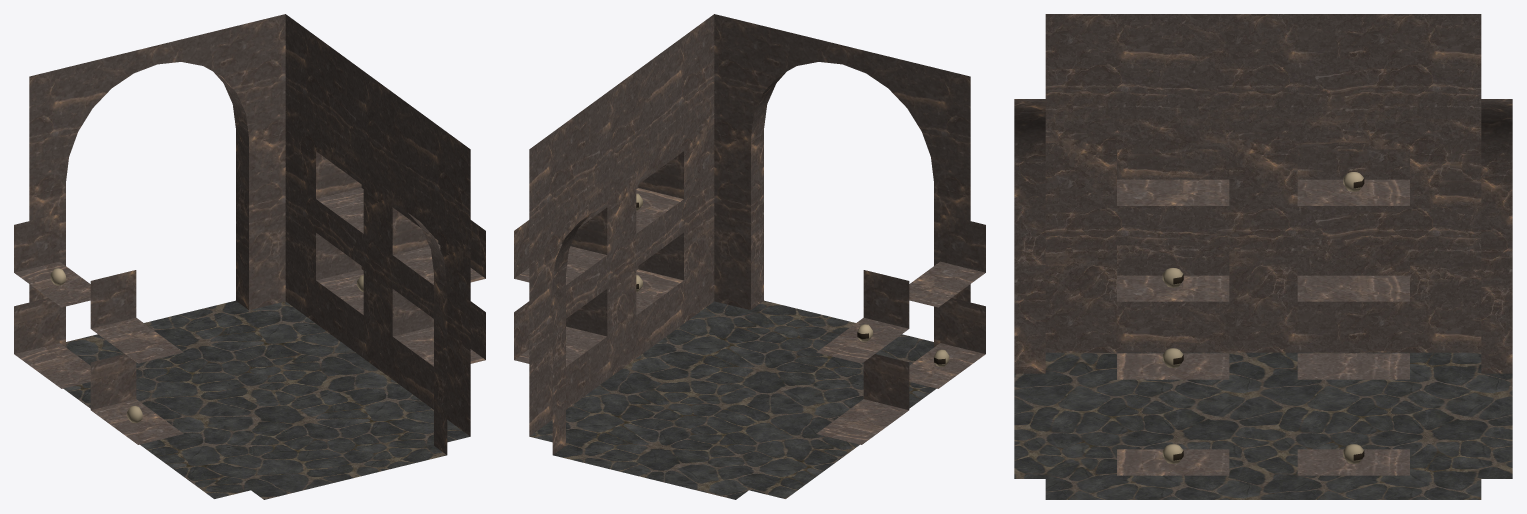
File: room-small.gltf
3 renders of one model, left to right at view 1: azimuth 30°, elevation 25°; view 2: azimuth 150°, elevation 25°; view 3: azimuth 270°, elevation 25°, orthographic. The views are drawn at different scales.
Visible parts, largest first — view 1: room-small-mesh, room-small-bones; view 2: room-small-mesh, room-small-bones; view 3: room-small-mesh, room-small-bones.
Boxes of the visible parts, box(x1,y1,x2,y2) form: room-small-mesh: box(14, 14, 485, 499); room-small-bones: box(50, 268, 433, 423); room-small-mesh: box(514, 14, 985, 499); room-small-bones: box(566, 193, 949, 366); room-small-mesh: box(1014, 14, 1512, 499); room-small-bones: box(1162, 172, 1364, 463).
Size of the model in its own units: 3.8 by 3 by 4.
Materials: 3 (2 with a texture image).
